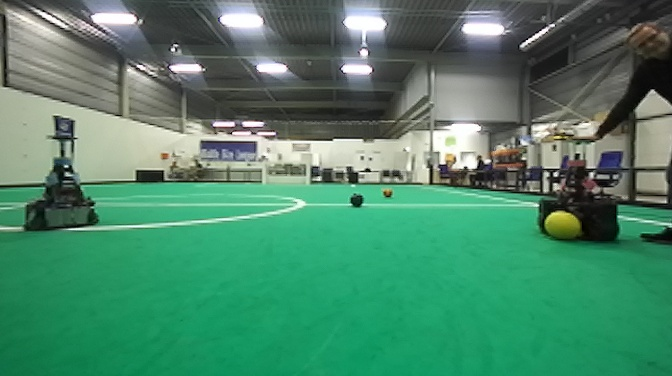ball: (541, 208, 584, 242), (346, 190, 367, 209), (380, 187, 396, 200)
goal: (260, 162, 311, 188)
goalpost: (260, 164, 268, 188), (305, 162, 311, 187)
human_part: (569, 19, 672, 247)
robot: (535, 134, 621, 245), (20, 132, 103, 234)
